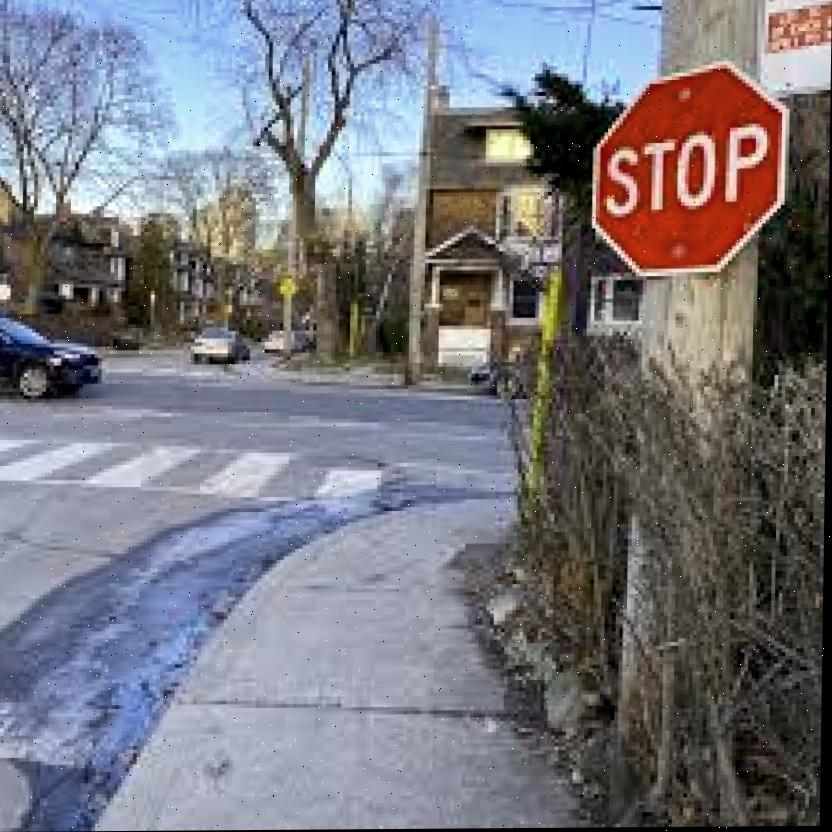Sign: (597, 72, 788, 275)
